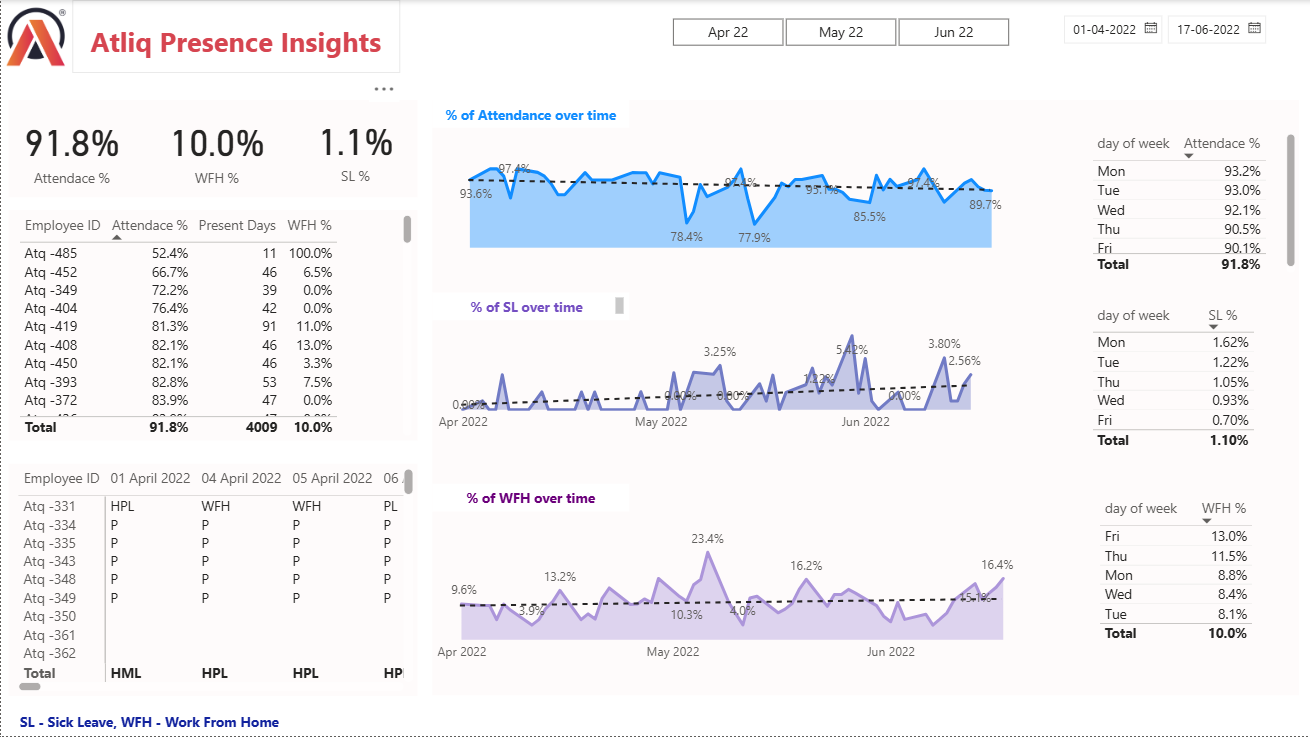

This screenshot's page, from the dashboard's own definition file:
{"tool":"powerbi","page":{"name":"Presence Insights","canvas":[1280,720],"ordinal":0},"visuals":[{"type":"textbox","box":[7.8,205.6,399.9,225.5],"z":0},{"type":"textbox","box":[7.8,453.3,399.8,227.6],"z":1000},{"type":"textbox","box":[422.3,97.9,848.1,582.3],"z":2000},{"type":"textbox","box":[7.8,98,399.9,95.4],"z":3000},{"type":"tableEx","fields":{"Values":["Final Data.Employee ID","Measures (2).Attendace %","Measures (2).Present Days","Measures (2).WFH %"]},"box":[12.6,205.2,394.9,225.7],"z":4000},{"type":"slicer","fields":{"Values":["Final Data.Date"]},"box":[1027.3,5.2,252.7,46.3],"z":5000},{"type":"slicer","fields":{"Values":["Final Data.MMM YY"]},"box":[630.4,10.5,379.5,35.8],"z":6000},{"type":"areaChart","fields":{"Category":["Final Data.MMM YY","Final Data.Date"],"Y":["Measures (2).WFH %"]},"box":[420.7,502.3,589,153.5],"z":7000},{"type":"areaChart","fields":{"Category":["Final Data.WeekNo","Final Data.Date"],"Y":["Measures (2).Attendace %"]},"box":[444.1,144.9,540.4,103.2],"z":8000},{"type":"card","fields":{"Values":["Measures (2).Attendace %"]},"box":[7.8,98,124,96.3],"z":9000},{"type":"card","fields":{"Values":["Measures (2).WFH %"]},"box":[141.4,98,138.8,96.3],"z":10000},{"type":"areaChart","fields":{"Category":["Final Data.MMM YY","Final Data.Date"],"Y":["Measures (2).SL %"]},"box":[422.5,307.1,556,124],"z":11000},{"type":"image","box":[0,0,70,71],"z":12000},{"type":"card","fields":{"Values":["Measures (2).SL %"]},"box":[286.3,97.2,121.4,96.3],"z":13000},{"type":"textbox","box":[70.3,0,320.1,71.1],"z":14000},{"type":"textbox","box":[422.4,98.2,192.5,27.5],"z":15000},{"type":"textbox","box":[422.5,286.3,192.6,26.9],"z":16000},{"type":"textbox","box":[422.1,473.7,192.6,27.2],"z":17000},{"type":"pivotTable","fields":{"Rows":["Final Data.Employee ID"],"Columns":["Final Data.Date"],"Values":["Min(Final Data.Value)"]},"box":[11.7,453.3,395.9,227.6],"z":18000},{"type":"textbox","box":[13.6,691.6,289.8,28.2],"z":19000},{"type":"tableEx","fields":{"Values":["Final Data.day of week","Measures (2).Attendace %"]},"box":[1060.9,125.8,209.9,145.7],"z":20000},{"type":"tableEx","fields":{"Values":["Final Data.day of week","Measures (2).SL %"]},"box":[1060.9,294.1,191.7,167.4],"z":21000},{"type":"tableEx","fields":{"Values":["Final Data.day of week","Measures (2).WFH %"]},"box":[1068.7,483.2,170,167.4],"z":22000}]}

Visuals, with their boxes in screenshot pixels (x1, y1, x2, y2), scaled from the page's 1280x720 canvas onto the 1310x737 screenshot:
textbox: bbox(8, 210, 417, 441)
textbox: bbox(8, 464, 417, 697)
textbox: bbox(432, 100, 1300, 696)
textbox: bbox(8, 100, 417, 198)
tableEx - Final Data.Employee ID x Measures (2).Attendace %: bbox(13, 210, 417, 441)
slicer - Final Data.Date: bbox(1051, 5, 1309, 53)
slicer - Final Data.MMM YY: bbox(645, 11, 1034, 47)
areaChart - Final Data.MMM YY x Final Data.Date: bbox(431, 514, 1033, 671)
areaChart - Final Data.WeekNo x Final Data.Date: bbox(455, 148, 1008, 254)
card - Measures (2).Attendace %: bbox(8, 100, 135, 199)
card - Measures (2).WFH %: bbox(145, 100, 287, 199)
areaChart - Final Data.MMM YY x Final Data.Date: bbox(432, 314, 1001, 441)
image: bbox(0, 0, 72, 73)
card - Measures (2).SL %: bbox(293, 99, 417, 198)
textbox: bbox(72, 0, 400, 73)
textbox: bbox(432, 101, 629, 129)
textbox: bbox(432, 293, 630, 321)
textbox: bbox(432, 485, 629, 513)
pivotTable - Final Data.Employee ID x Final Data.Date: bbox(12, 464, 417, 697)
textbox: bbox(14, 708, 311, 736)
tableEx - Final Data.day of week x Measures (2).Attendace %: bbox(1086, 129, 1301, 278)
tableEx - Final Data.day of week x Measures (2).SL %: bbox(1086, 301, 1282, 472)
tableEx - Final Data.day of week x Measures (2).WFH %: bbox(1094, 495, 1268, 666)
